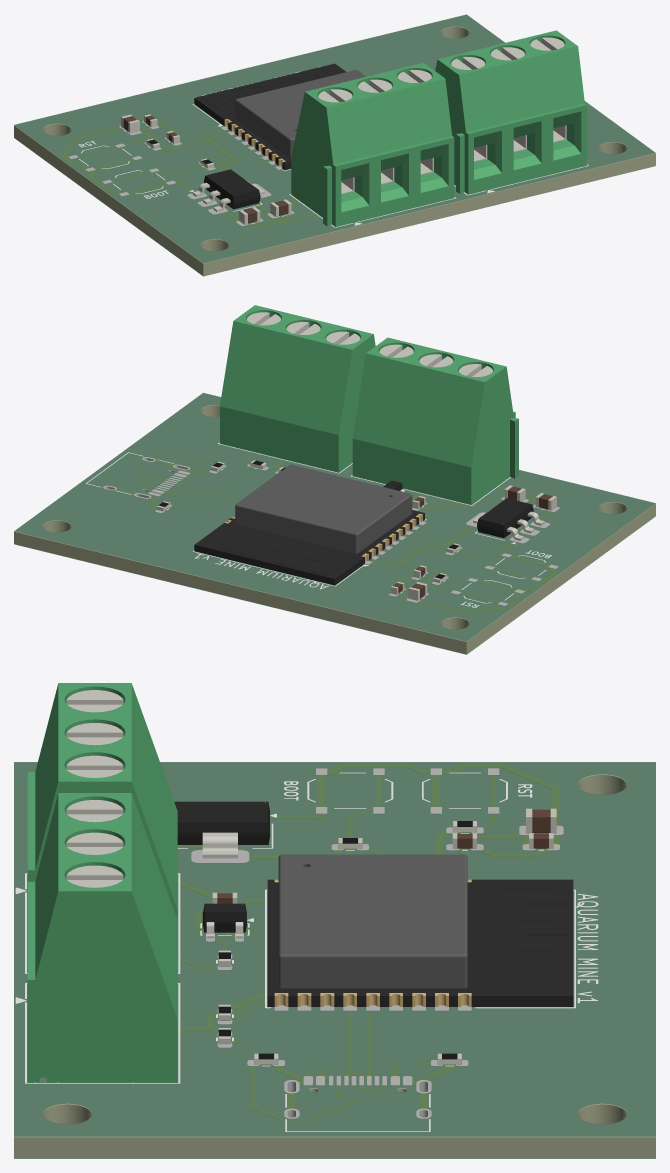
File: aquarium_mine_ctrl.glb
3 views of the same model, one above another, from view 1: azimuth 30°, elevation 25°; view 2: azimuth 150°, elevation 25°; view 3: azimuth 270°, elevation 25° (orthographic). The views are drawn at different scales.
Visible parts, largest first — view 1: =>[0:1:1:3] (×2), =>[0:1:1:23], =>[0:1:1:21], =>[0:1:1:9], =>[0:1:1:11], =>[0:1:1:16], =>[0:1:1:17], =>[0:1:1:19], =>[0:1:1:22]; view 2: =>[0:1:1:23], =>[0:1:1:21], =>[0:1:1:3] (×2), =>[0:1:1:9], =>[0:1:1:17], =>[0:1:1:11], =>[0:1:1:16], =>[0:1:1:19], =>[0:1:1:22]; view 3: =>[0:1:1:23], =>[0:1:1:21], =>[0:1:1:3] (×2), =>[0:1:1:9], =>[0:1:1:16], =>[0:1:1:11], =>[0:1:1:17], =>[0:1:1:19], =>[0:1:1:15], =>[0:1:1:13].
Boxes of the visible parts, box(x1,y1,x2,y2) form: =>[0:1:1:3] (×2): box(291, 30, 586, 226); =>[0:1:1:23]: box(14, 15, 655, 275); =>[0:1:1:21]: box(14, 14, 655, 263); =>[0:1:1:9]: box(194, 63, 365, 170); =>[0:1:1:11]: box(192, 169, 264, 211); =>[0:1:1:16]: box(62, 122, 315, 226); =>[0:1:1:17]: box(68, 121, 294, 225); =>[0:1:1:19]: box(78, 66, 588, 227); =>[0:1:1:22]: box(14, 138, 655, 276); =>[0:1:1:23]: box(14, 394, 655, 654); =>[0:1:1:21]: box(14, 392, 655, 641); =>[0:1:1:3] (×2): box(220, 305, 518, 504); =>[0:1:1:9]: box(194, 464, 424, 585); =>[0:1:1:17]: box(103, 457, 559, 605); =>[0:1:1:11]: box(473, 498, 544, 540); =>[0:1:1:16]: box(117, 453, 556, 612); =>[0:1:1:19]: box(86, 442, 551, 607); =>[0:1:1:22]: box(14, 516, 655, 654); =>[0:1:1:23]: box(14, 763, 655, 1158); =>[0:1:1:21]: box(14, 762, 655, 1136); =>[0:1:1:3] (×2): box(27, 683, 177, 1082); =>[0:1:1:9]: box(267, 854, 573, 1006); =>[0:1:1:16]: box(178, 764, 559, 1121); =>[0:1:1:11]: box(174, 801, 269, 858); =>[0:1:1:17]: box(191, 768, 563, 1118); =>[0:1:1:19]: box(15, 772, 598, 1131); =>[0:1:1:15]: box(202, 903, 246, 938); =>[0:1:1:13]: box(526, 808, 556, 833).
Size of the model in its own units: 0.058 by 0.0173 by 0.042.
